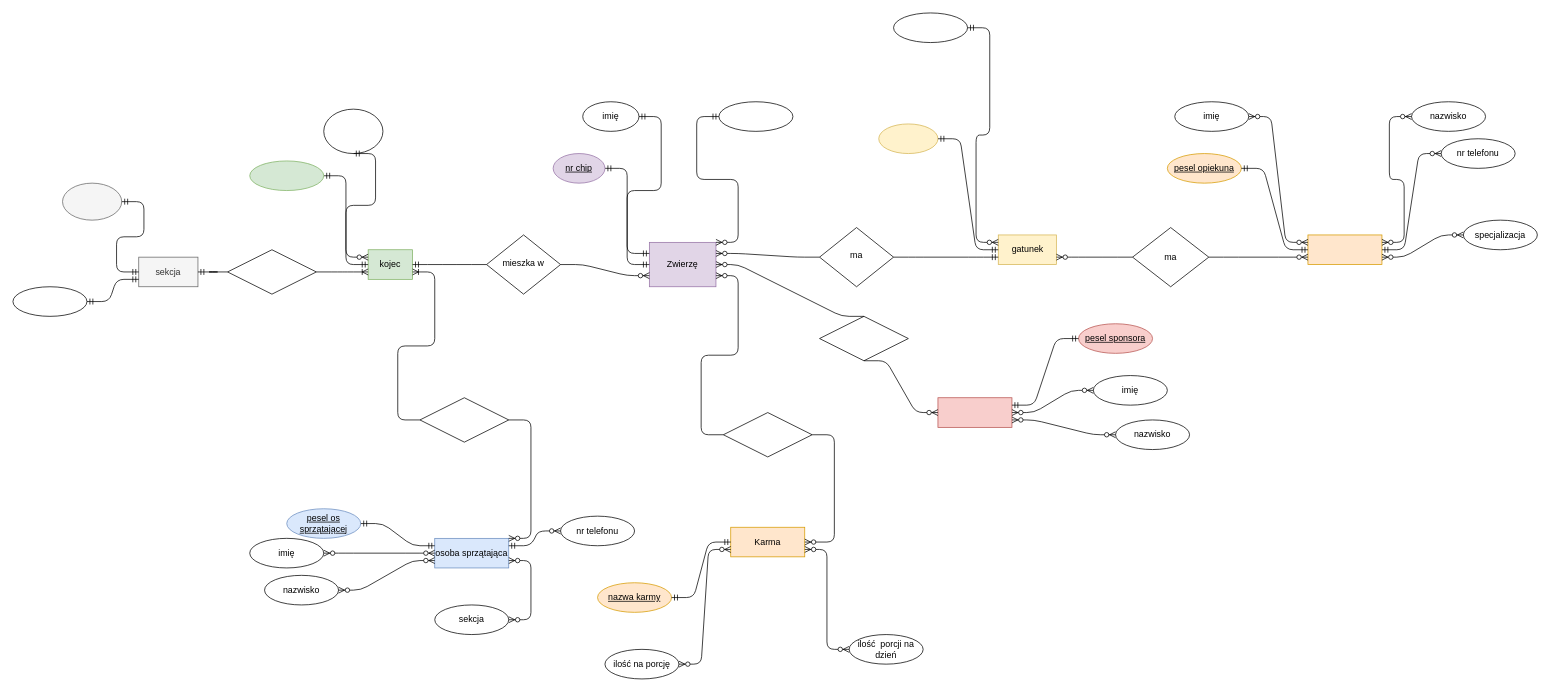
The diagram is 1550 pixels wide and 692 high, and some of its shapes have lost their labels. The centre of each missing label's shape, as x and y in pixels:
dostaję: the point at 767,434
jest sponsorowane przez: the point at 863,338
jest w: the point at 271,271
nazwa: the point at 908,138
numer kojca: the point at 286,175
opiekun: the point at 1344,249
przeznaczenie sekcji: the point at 49,301
rasa: the point at 755,116
rodzaj kojca: the point at 353,131
Sponsor: the point at 974,412
sprzątany przez: the point at 464,419
symbol sekcji: the point at 92,201
typ: the point at 930,27
